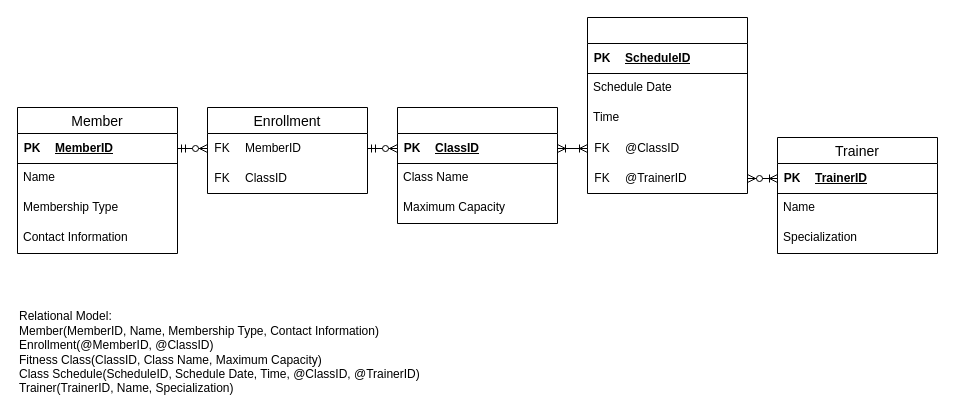
This 955x420 diagram has some shape labels left out. Each missing label, with the box of its shape:
Class Schedule: (586, 16, 748, 194)
Fitness Class: (396, 106, 558, 224)
